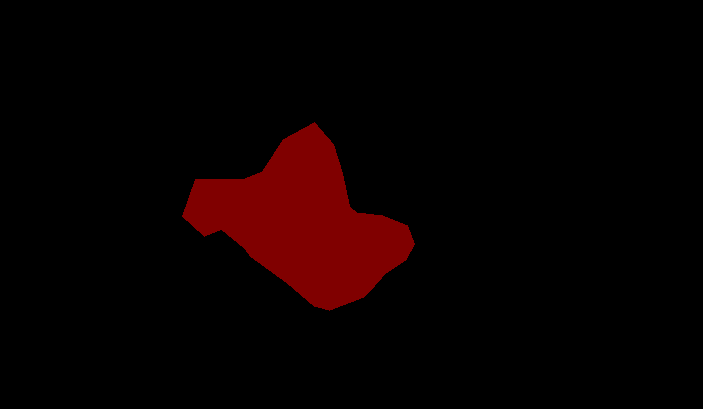fire: (182, 122, 414, 310)
